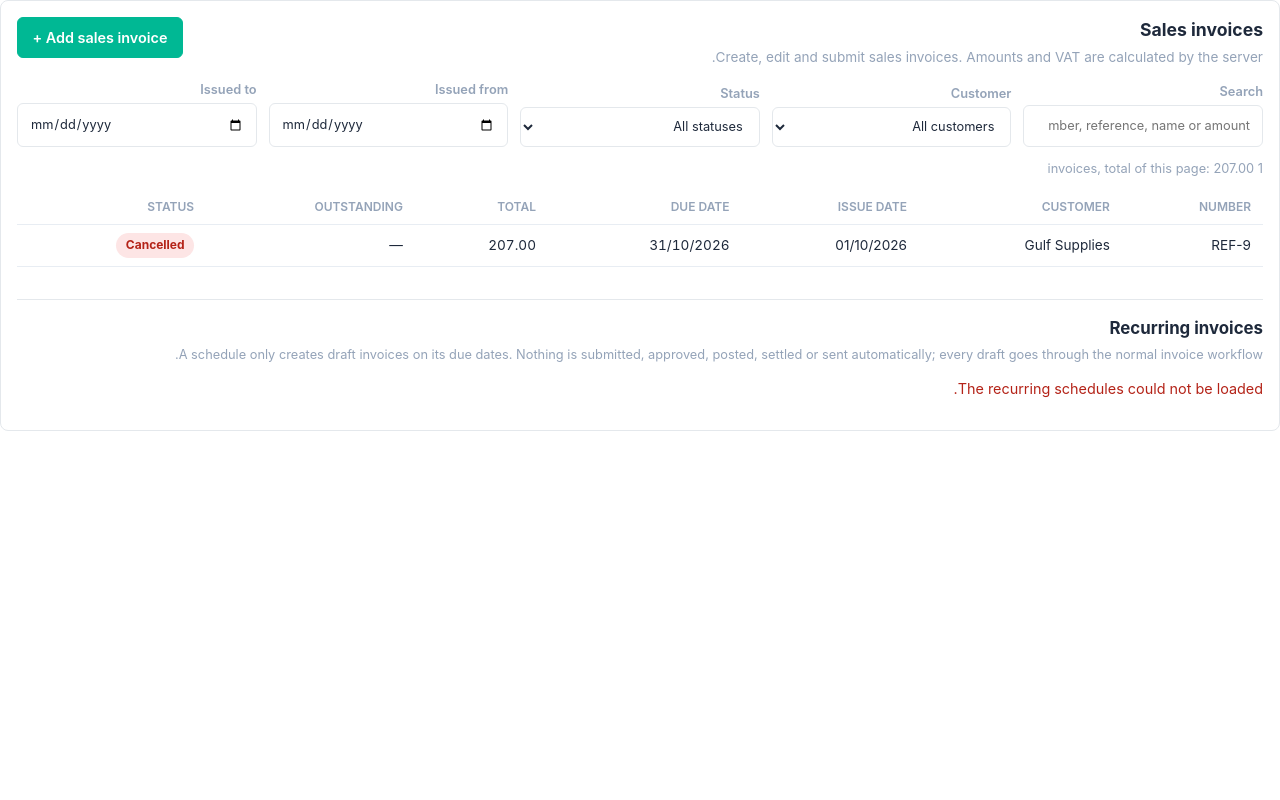
Invoice details dialog layout › shows the cancellation history under Corrections
This screenshot has width=1280, height=800.
Click the text "REF-9" at {"x": 1192, "y": 245}, box top-left (1122, 225), bottom-right (1263, 266)
(page scrolled)
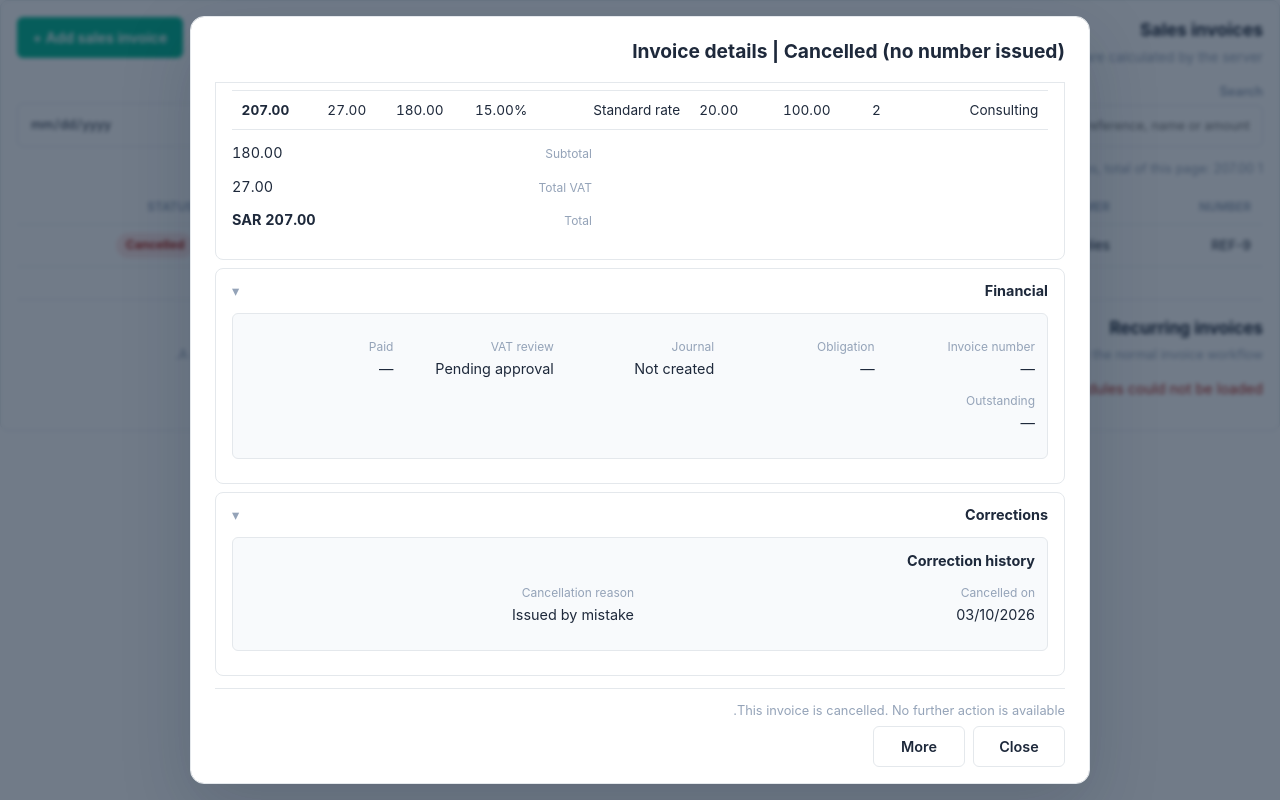
Expected: the element with test id "correction-history" shows "Issued by mistake", top-left (512, 606), bottom-right (634, 623)
